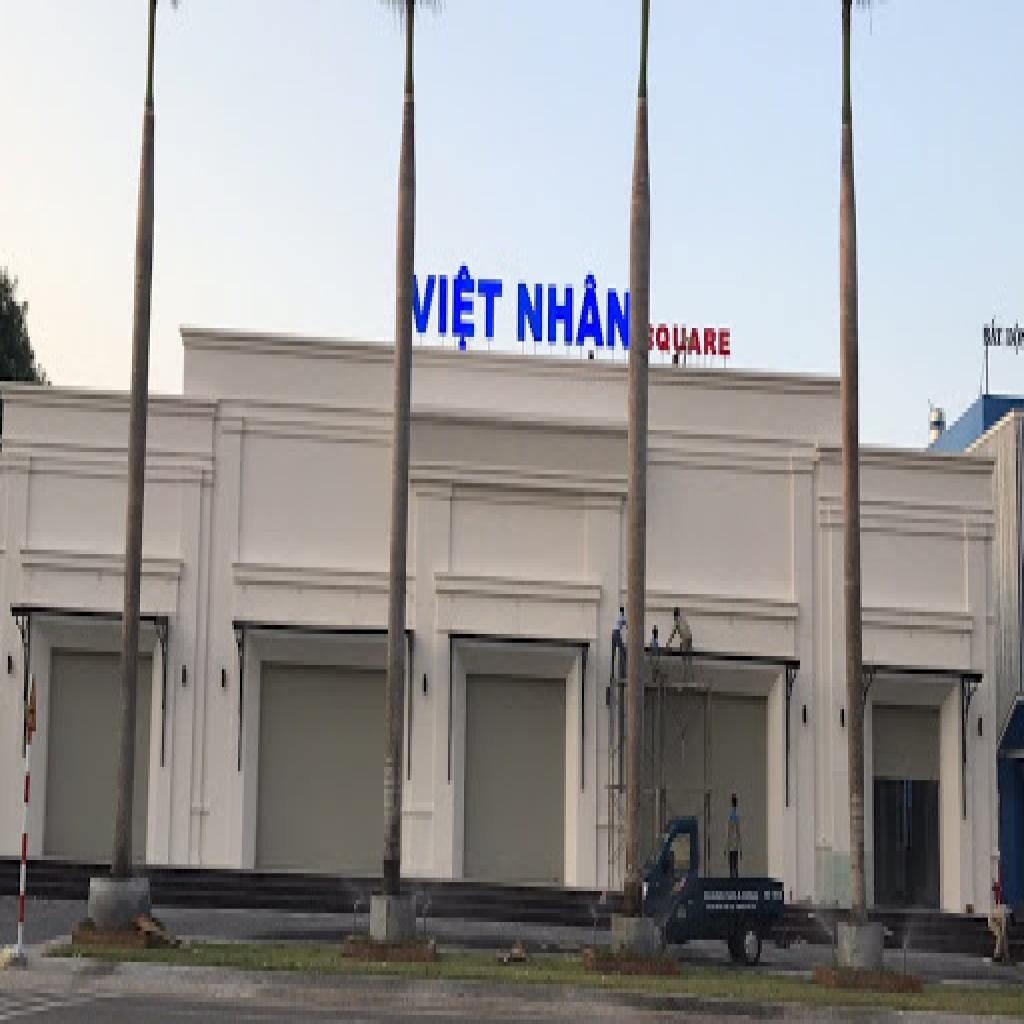text: (512, 266, 636, 372), (410, 262, 508, 359), (654, 310, 734, 368), (982, 314, 1006, 354), (1006, 319, 1024, 364)
